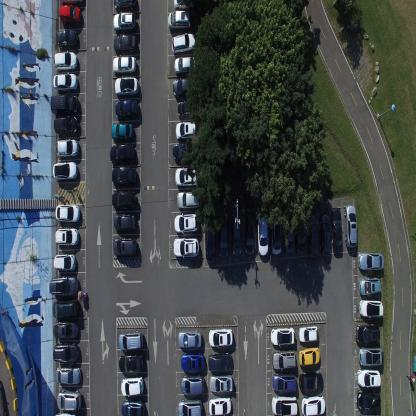car: (49, 275, 78, 297), (50, 93, 79, 114), (294, 206, 307, 252), (358, 345, 384, 368), (172, 76, 200, 97), (270, 394, 298, 415), (344, 203, 357, 248), (53, 114, 79, 136), (56, 389, 82, 411), (173, 236, 199, 258), (358, 251, 385, 272), (270, 208, 282, 255), (308, 212, 320, 258), (171, 32, 195, 55), (272, 348, 296, 371), (113, 74, 138, 96), (167, 9, 192, 31), (355, 323, 380, 345), (174, 167, 200, 188), (109, 143, 135, 164), (53, 341, 79, 362), (331, 207, 343, 252), (53, 320, 80, 340), (298, 345, 321, 368), (320, 212, 332, 256), (244, 211, 256, 255), (112, 190, 136, 212), (58, 4, 82, 26), (208, 351, 233, 372), (118, 329, 143, 350), (180, 375, 205, 396), (301, 394, 326, 415), (359, 298, 385, 318), (111, 166, 137, 186), (208, 328, 234, 348), (52, 50, 78, 70), (172, 142, 199, 161), (52, 299, 79, 318), (269, 327, 296, 346), (178, 329, 202, 350), (120, 376, 144, 397), (357, 390, 381, 411), (272, 373, 297, 393), (111, 53, 137, 72), (52, 161, 78, 180), (55, 366, 81, 385), (359, 275, 382, 296), (175, 120, 199, 140), (174, 214, 198, 234), (283, 214, 295, 254), (206, 216, 216, 264), (113, 238, 137, 258), (112, 32, 136, 52), (55, 137, 79, 157), (55, 227, 79, 247), (299, 371, 323, 391), (177, 99, 202, 118), (52, 71, 77, 90), (119, 354, 144, 373), (173, 56, 198, 75), (55, 203, 80, 222), (356, 369, 381, 388), (177, 397, 203, 415), (231, 214, 242, 256), (176, 190, 199, 210), (115, 98, 138, 118), (182, 352, 206, 371), (55, 29, 79, 48), (112, 12, 136, 31), (208, 396, 232, 415), (218, 217, 229, 258), (258, 212, 268, 256), (53, 253, 76, 272), (113, 214, 137, 232), (110, 122, 134, 140), (121, 398, 145, 416), (209, 374, 233, 392), (298, 325, 320, 343), (113, 0, 137, 11), (172, 0, 196, 8), (58, 0, 82, 5)
